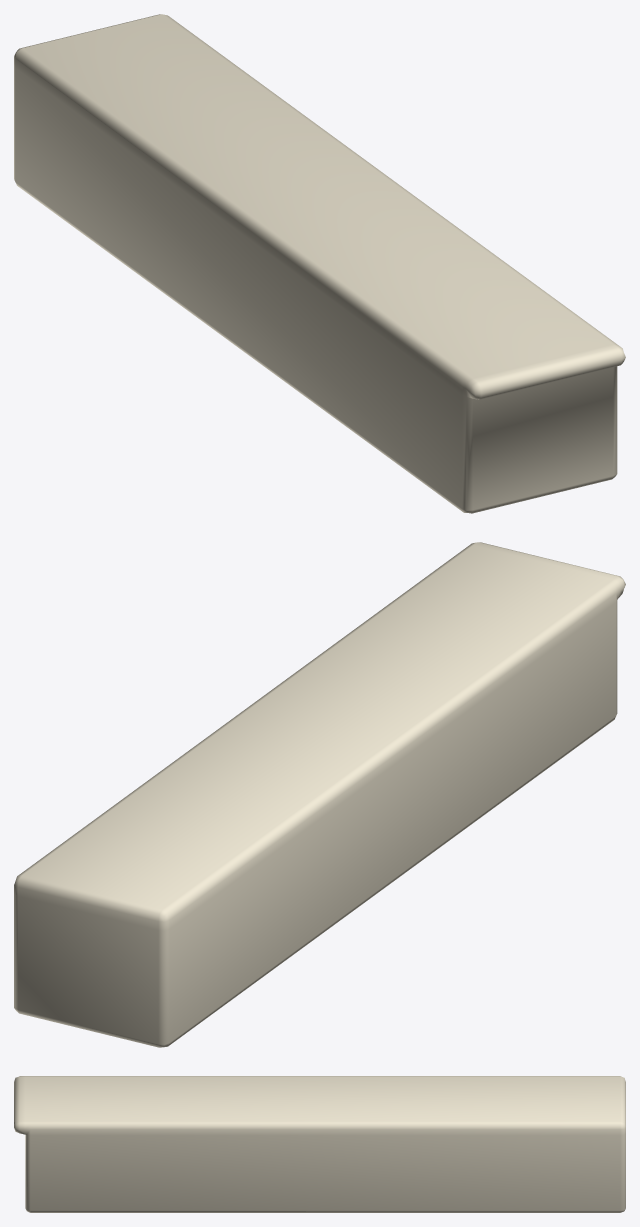
File: keyWhite.FBX
The picture shows the model from 3 angles, top to bottom: view 1: azimuth 30°, elevation 25°; view 2: azimuth 150°, elevation 25°; view 3: azimuth 270°, elevation 25°; orthographic projection. The views are drawn at different scales.
Parts seen in each view (by area): view 1: KeyWhite; view 2: KeyWhite; view 3: KeyWhite.
Boxes of the visible parts, x1=… form: KeyWhite: x1=14, y1=14, x2=625, y2=513; KeyWhite: x1=14, y1=542, x2=625, y2=1047; KeyWhite: x1=14, y1=1076, x2=625, y2=1212.
Size of the model in its own units: 2.35 by 2 by 12.23.
